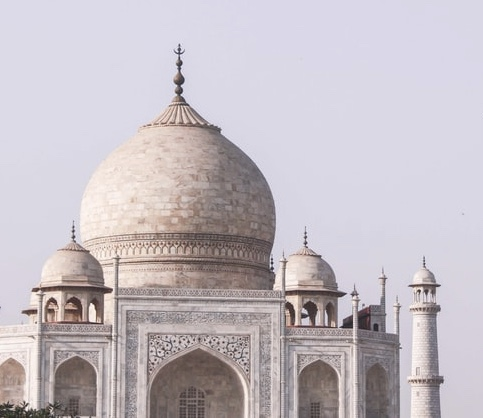Mosque: (18, 39, 454, 406)
